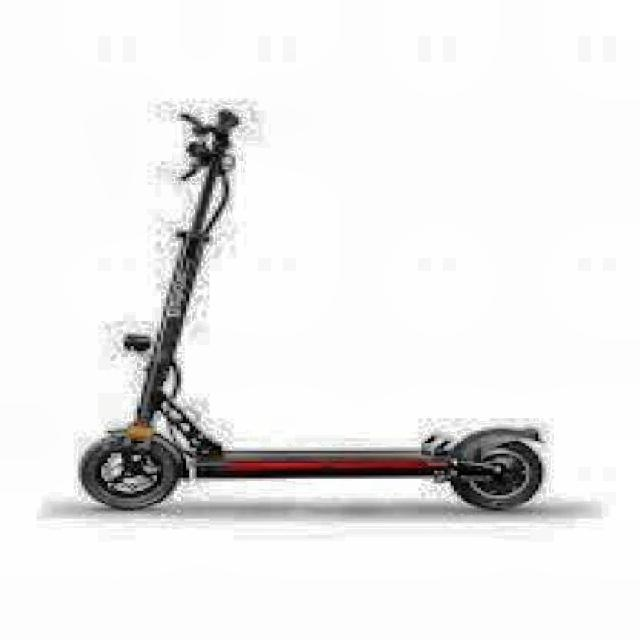bike: (75, 94, 554, 514), (71, 418, 556, 514)
car: (74, 98, 554, 517)
